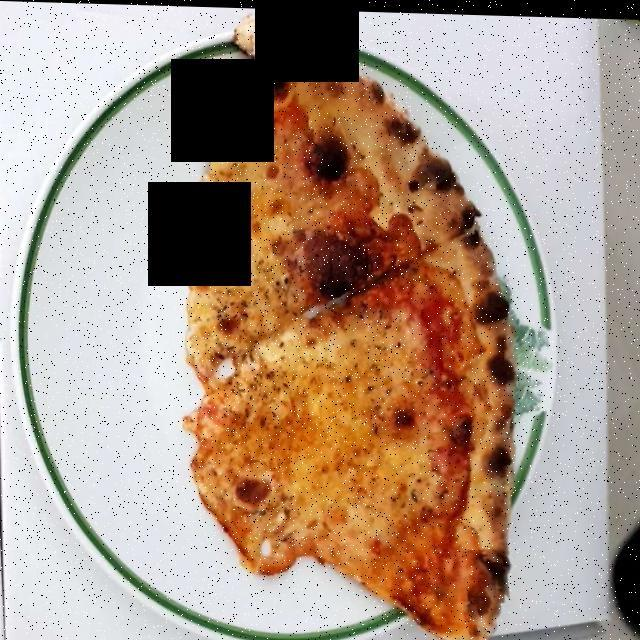pizza: (185, 26, 512, 634)
